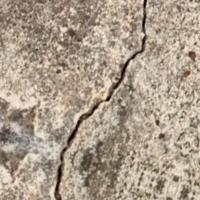crack: (52, 4, 186, 199)
